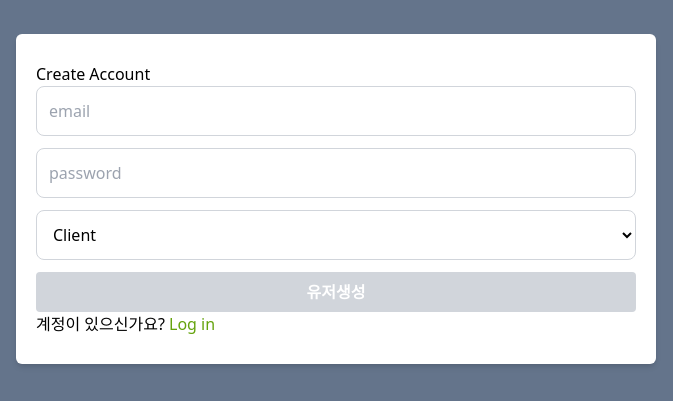
Test: CreateAccount › 패스워드 폼 테스트
This screenshot has width=673, height=401.
In the field with placeholder "email": (336, 111) [36,86,636,136], type "test@gmail.com"
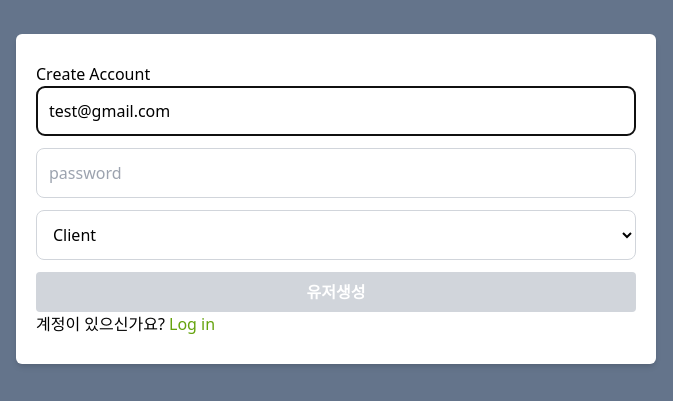
In the password field with placeholder "password": (336, 173) [36,148,636,198], type "1234"
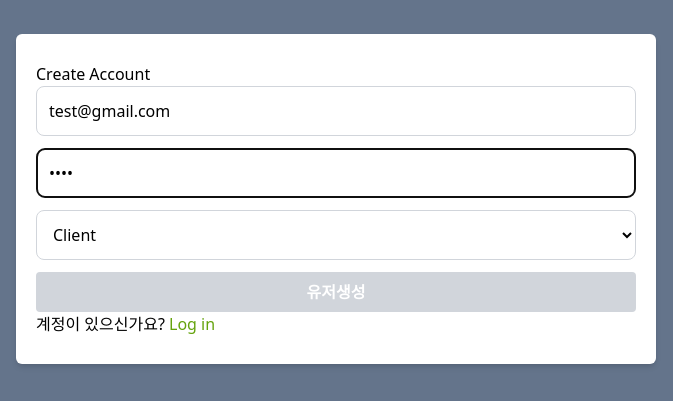
Clear the password field with placeholder "password": (336, 173) [36,148,636,198]
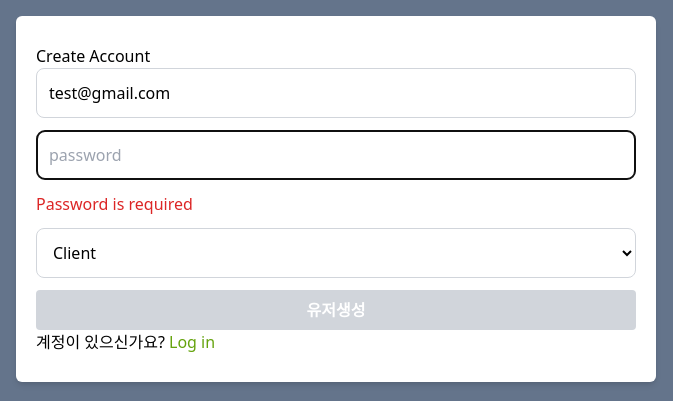
Expected: the text "Password is required" is shown, [36,193,193,215]
